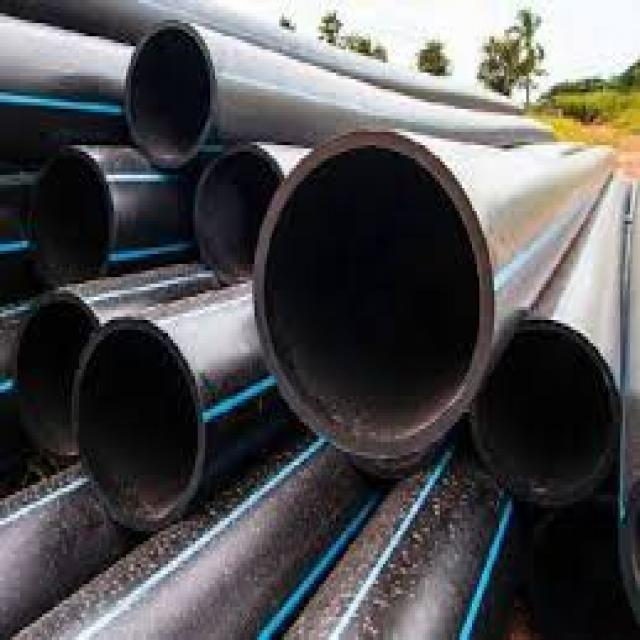pipe: (256, 131, 498, 458), (472, 321, 620, 508), (78, 320, 205, 532), (194, 142, 310, 272), (17, 293, 99, 456), (126, 25, 215, 168), (36, 149, 113, 282)
